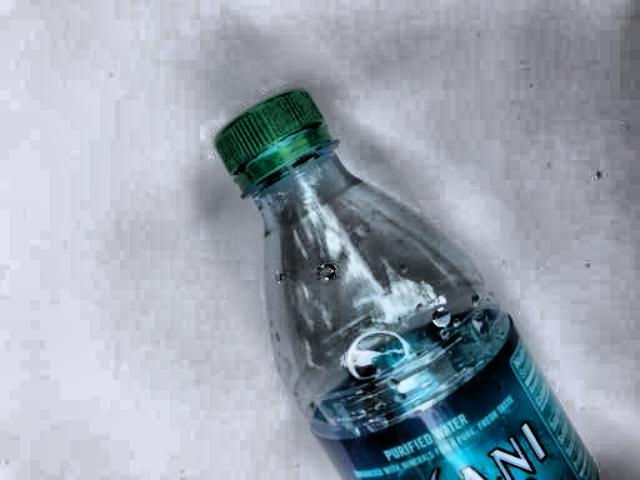Bottles: (218, 78, 615, 480)
